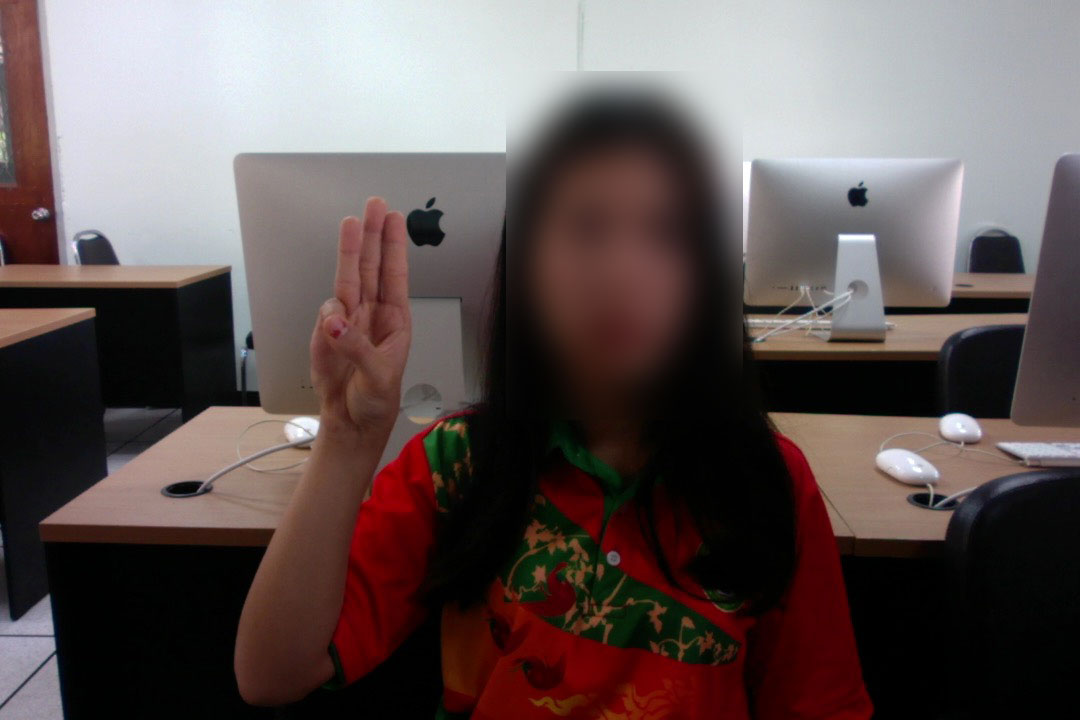wor: (310, 187, 427, 446)
